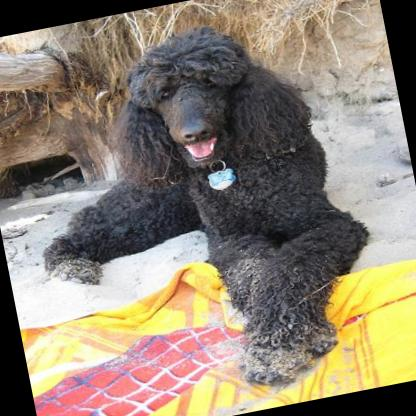standard_poodle: (1, 0, 393, 416)
